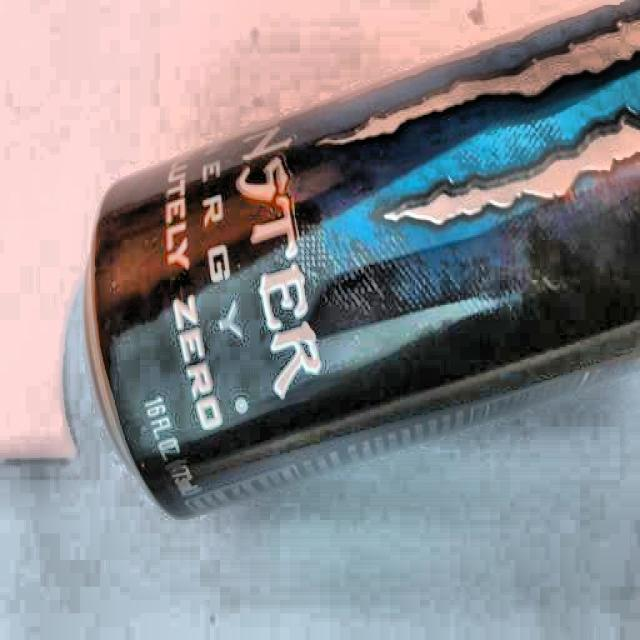metal: (80, 39, 640, 524)
